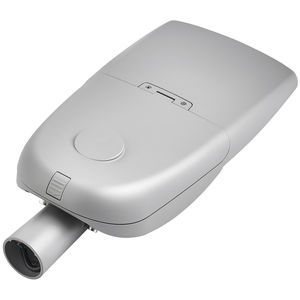Top_Street_Light: (13, 8, 297, 235)
